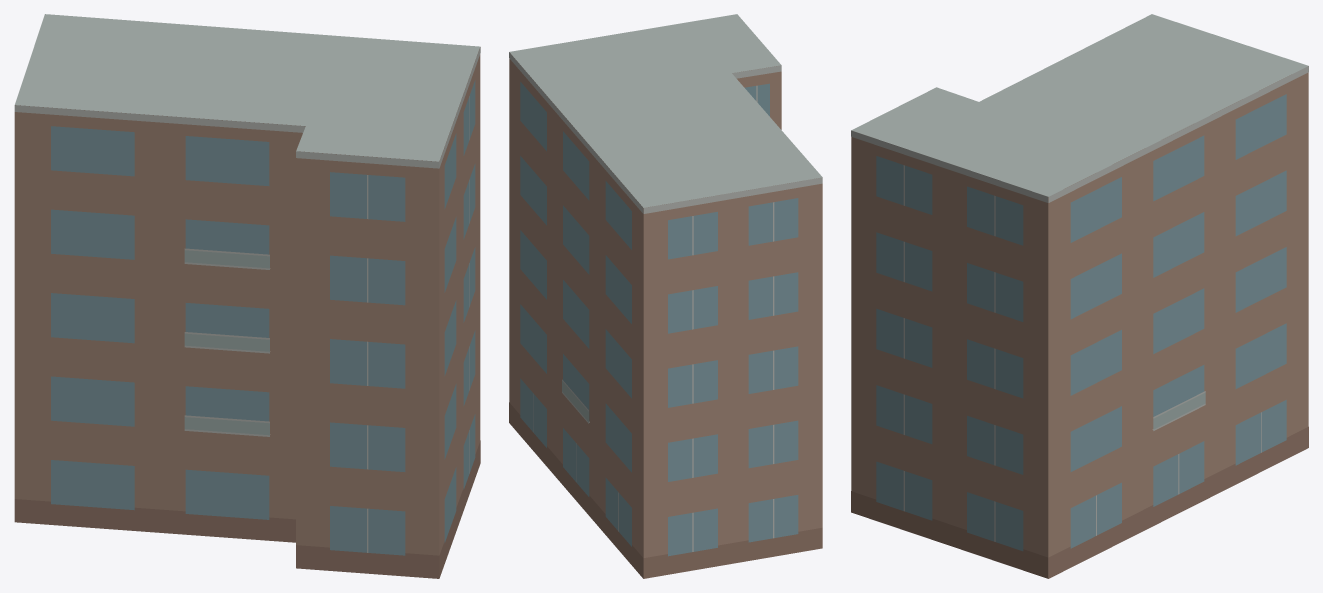
File: survey-upis-32796605.glb
3 renders of one model, left to right at view 1: azimuth 30°, elevation 25°; view 2: azimuth 150°, elevation 25°; view 3: azimuth 270°, elevation 25°, orthographic. The views are drawn at different scales.
Parts seen in each view (by area): view 1: survey-upis-32796605.tmp; view 2: survey-upis-32796605.tmp; view 3: survey-upis-32796605.tmp.
Boxes of the visible parts, x1,y1,x2,y2 form: survey-upis-32796605.tmp: (14,14,480,578); survey-upis-32796605.tmp: (509,14,822,578); survey-upis-32796605.tmp: (851,14,1308,578).
Size of the model in its own units: 15.04 by 14.65 by 15.91.
